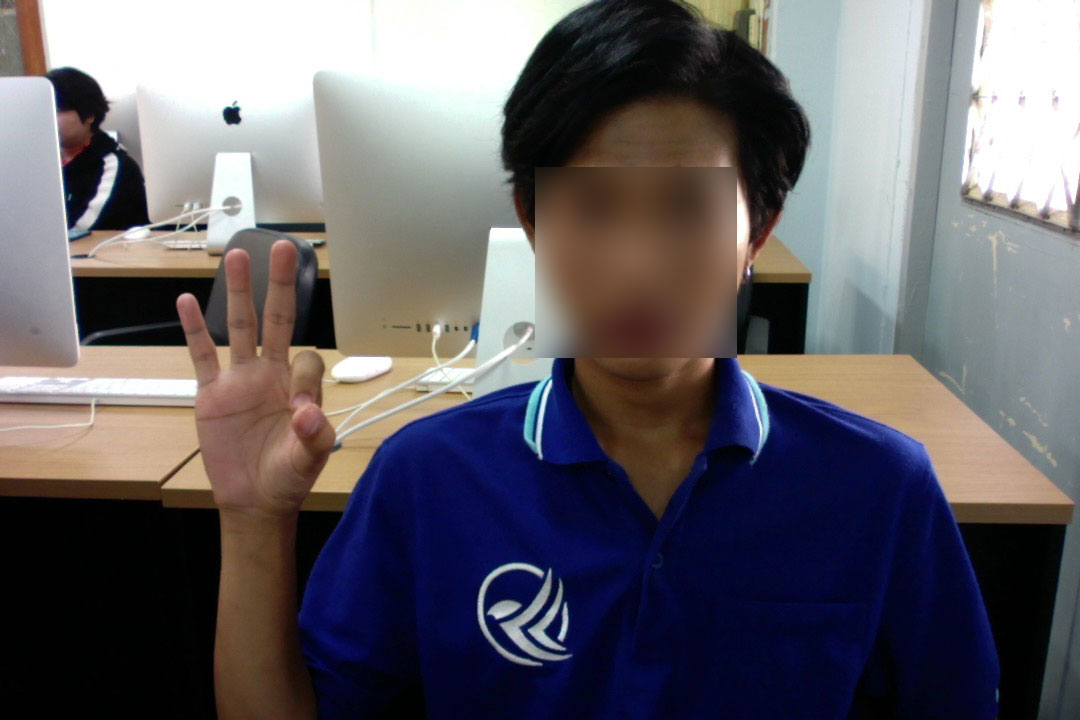for: (166, 225, 341, 522)
